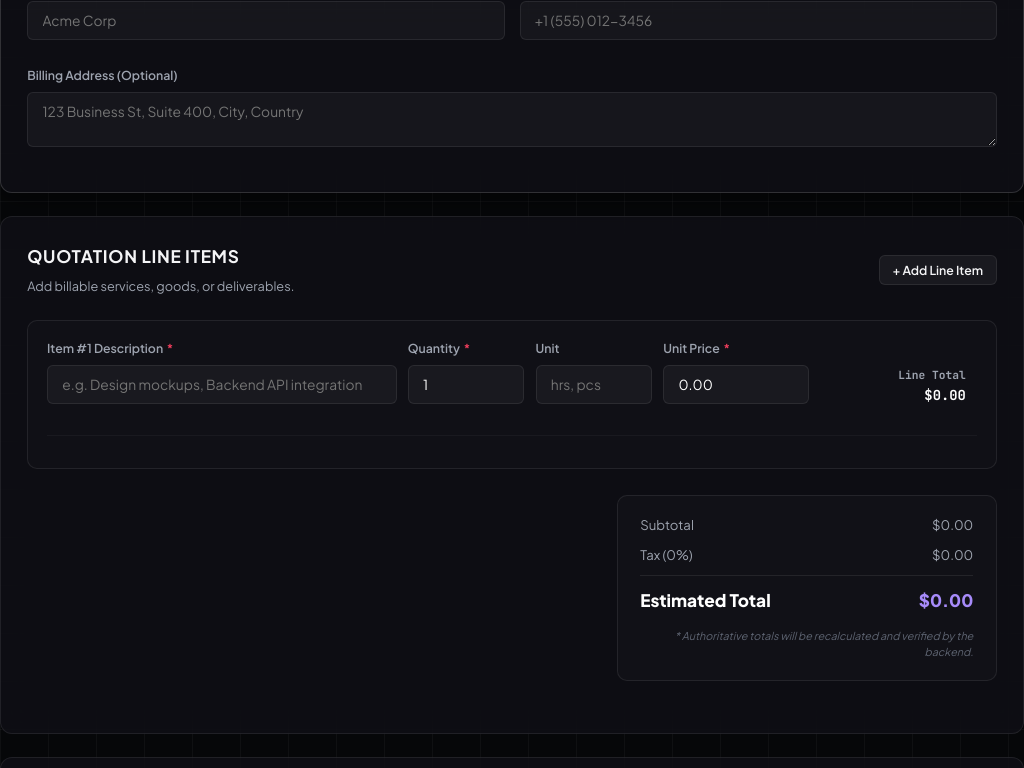
Scenario: QuotationForm › computes live subtotal and estimated total accurately
The image size is (1024, 768).
(page scrolled)
Set qty to 5, price to 20, tax to 10%
Step 1. Replace the text in the number field labelled "Quantity *" with "5" → (466, 384), box [408,365,524,404]
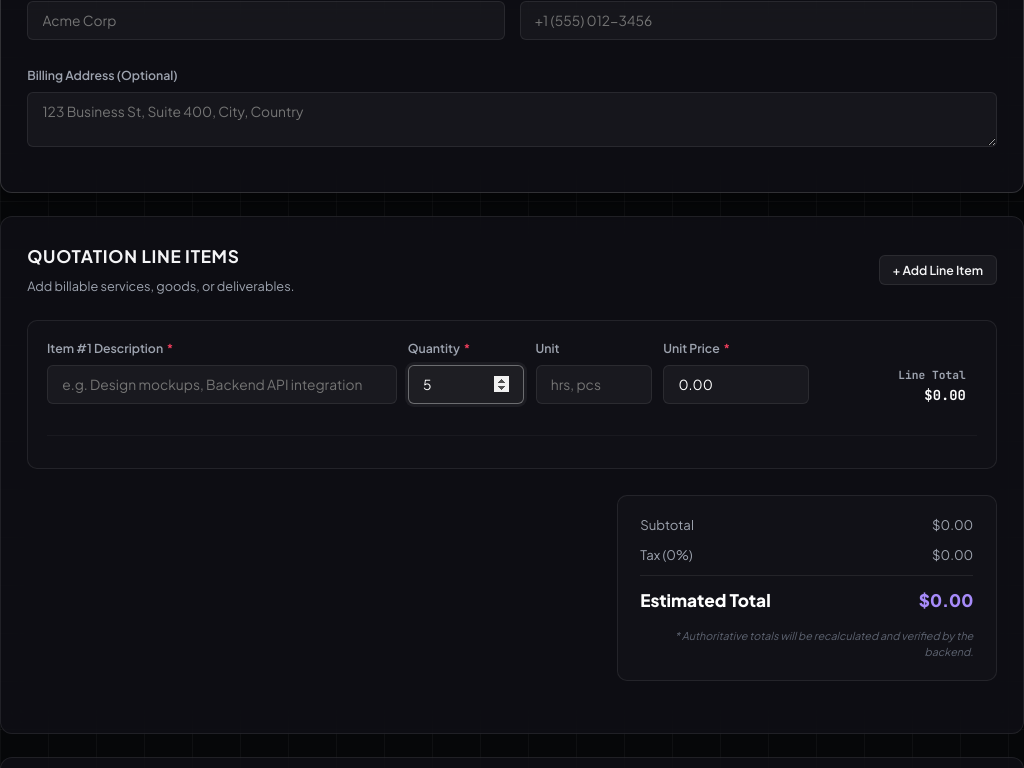
Step 2. Replace the text in the number field labelled "Unit Price *" with "20" → (736, 384), box [663,365,809,404]
(page scrolled)
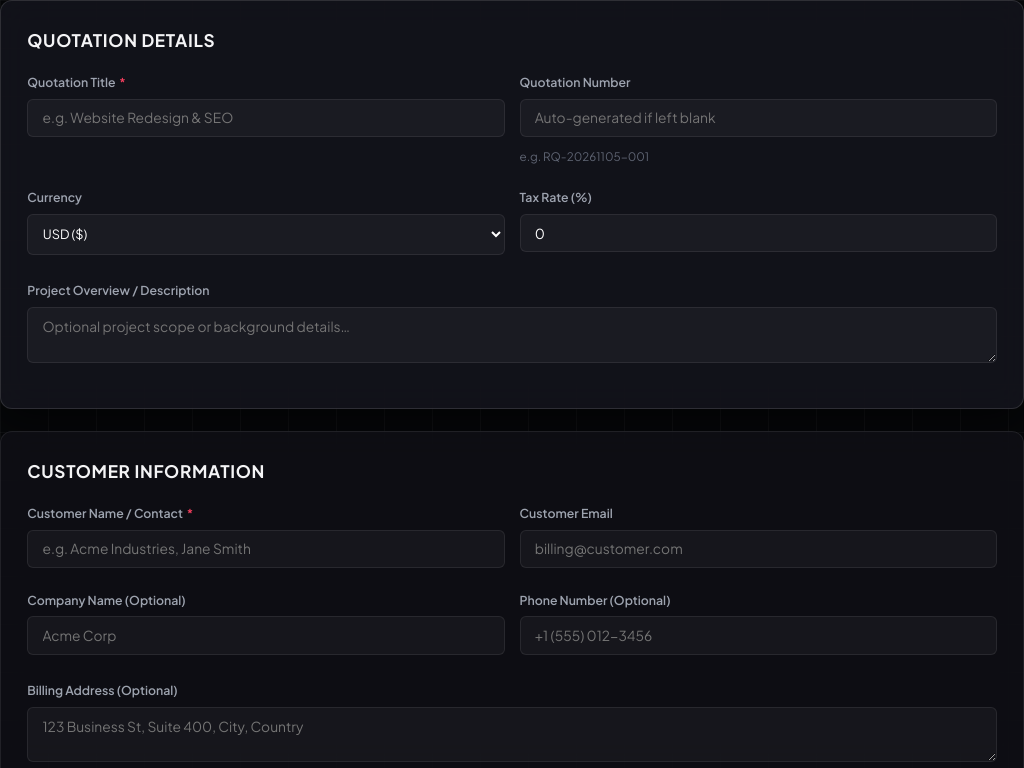
Step 3. Type "10" into the number field labelled "Tax Rate (%)" → (758, 233), box [520,214,997,252]
(page scrolled)
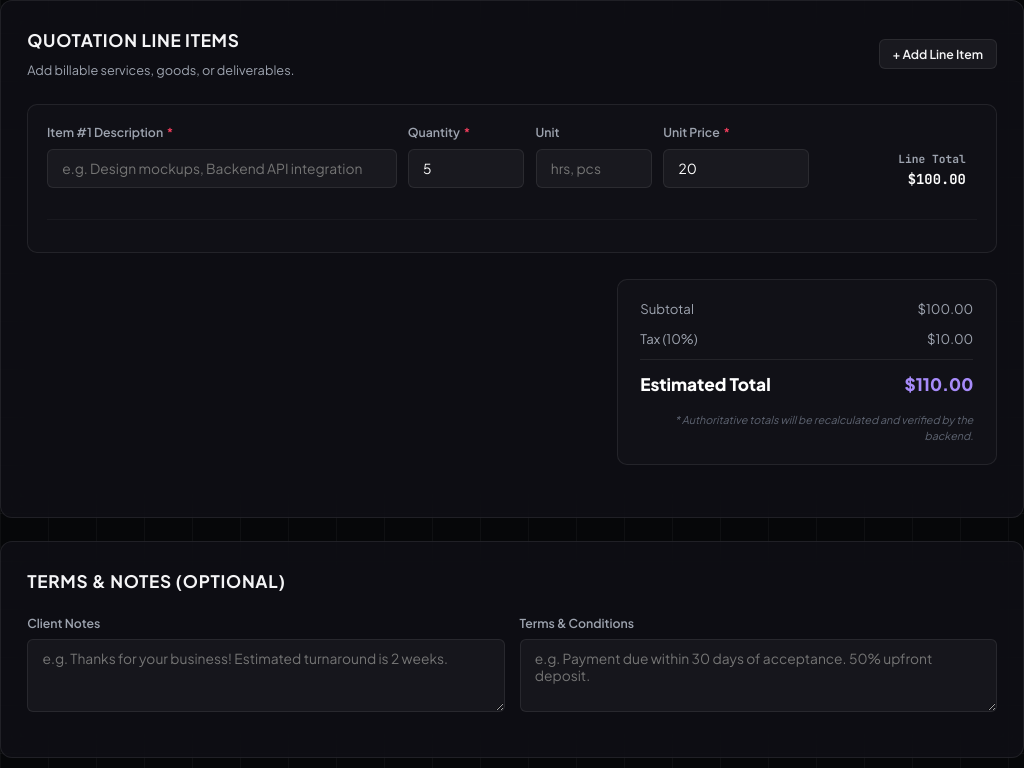
Expected: the text "$100.00" is shown 2 times, [908,170,966,188]; [918,299,973,319]
Expected: the text "$10.00" is shown, [927,329,973,349]
Expected: the text "$110.00" is shown, [905,371,973,398]
